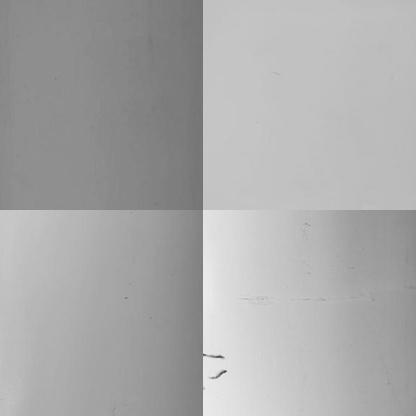sunshang: (203, 349, 227, 396)
